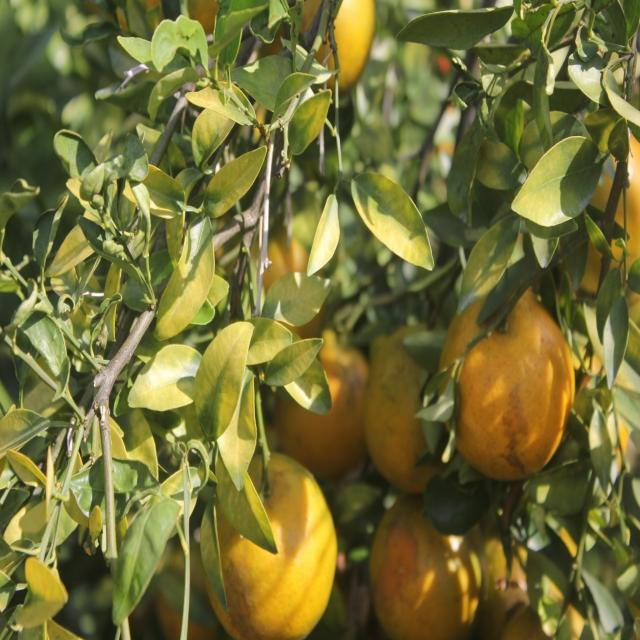greening: (516, 137, 601, 226), (154, 221, 214, 335), (360, 175, 430, 270), (200, 326, 253, 420), (206, 142, 268, 219), (130, 345, 197, 416)
